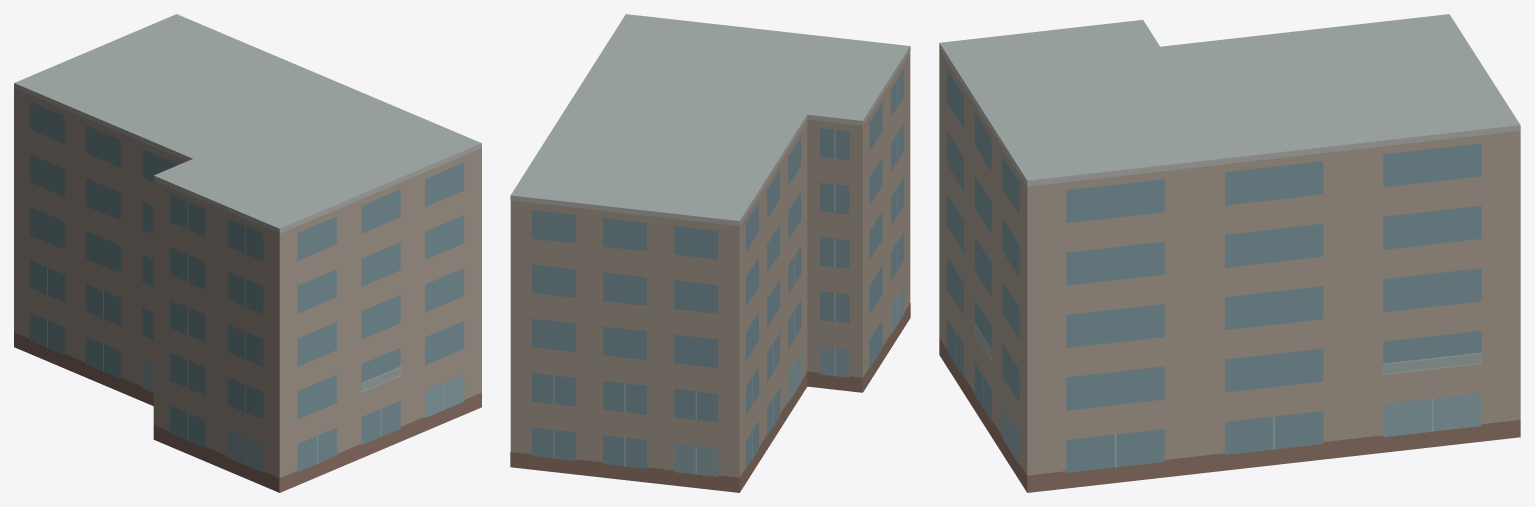
File: survey-upis-32716235.glb
The picture shows the model from 3 angles, left to right: view 1: azimuth 30°, elevation 25°; view 2: azimuth 150°, elevation 25°; view 3: azimuth 270°, elevation 25°; orthographic projection. The views are drawn at different scales.
Visible parts, largest first — view 1: survey-upis-32716235.tmp; view 2: survey-upis-32716235.tmp; view 3: survey-upis-32716235.tmp.
Part boxes in pixels (<box>): survey-upis-32716235.tmp: <box>14,14,481,492</box>; survey-upis-32716235.tmp: <box>510,14,910,492</box>; survey-upis-32716235.tmp: <box>939,14,1520,492</box>.
Bounding box in the file's own units: 15.14 × 13.2 × 22.29.
